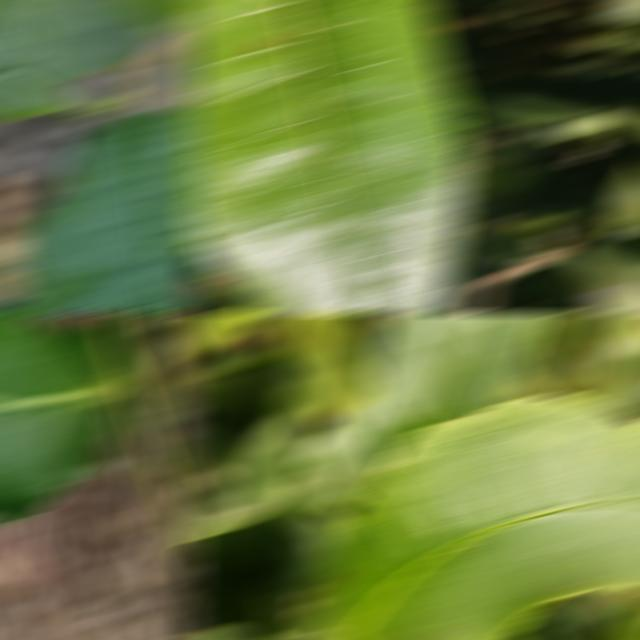Leaf: (184, 2, 472, 312), (326, 397, 640, 638), (9, 112, 200, 312), (365, 314, 551, 461), (0, 314, 123, 523), (262, 486, 363, 634), (258, 314, 380, 423), (0, 2, 100, 118), (23, 2, 162, 79), (294, 407, 392, 498), (184, 468, 288, 541), (227, 410, 307, 504), (111, 314, 169, 434), (566, 235, 640, 312), (184, 314, 270, 359), (120, 401, 159, 474), (116, 2, 200, 33), (606, 163, 640, 228)
